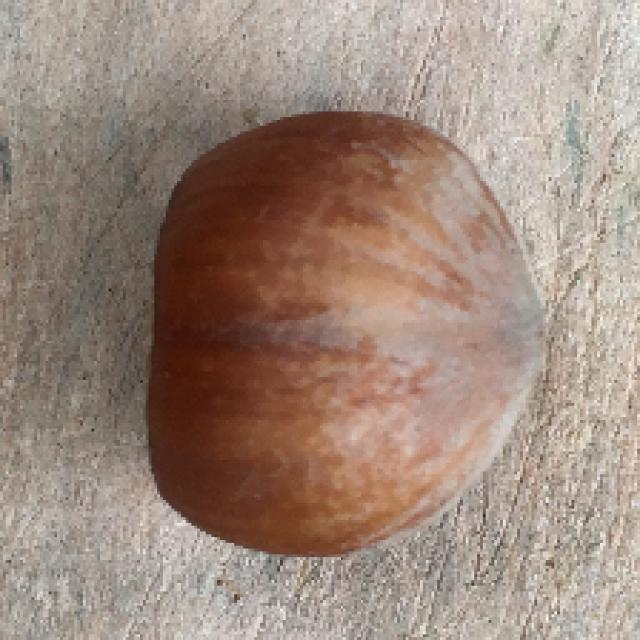qualityHazelnut: (143, 108, 552, 562)
